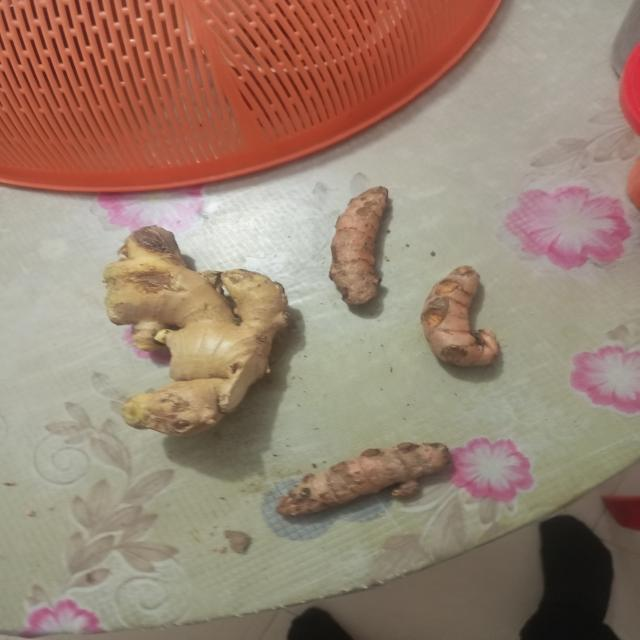ginger: (117, 227, 286, 431), (274, 443, 454, 511), (426, 266, 503, 371), (334, 186, 386, 304)
